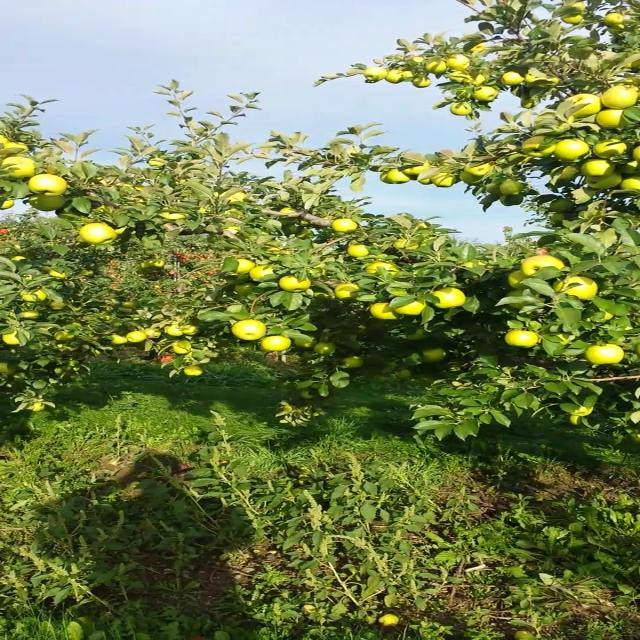apple: (598, 85, 638, 108), (554, 276, 594, 299), (551, 138, 590, 160), (79, 223, 117, 245), (565, 93, 599, 117), (522, 255, 561, 275), (584, 345, 621, 365), (28, 175, 64, 195), (231, 320, 267, 340), (2, 157, 34, 179), (508, 289, 540, 311), (522, 136, 557, 156), (580, 159, 614, 177), (28, 194, 64, 211), (432, 288, 464, 307), (592, 140, 625, 158), (584, 172, 620, 188), (278, 275, 310, 292), (504, 331, 538, 347), (595, 110, 624, 128), (371, 303, 397, 321), (259, 335, 289, 350), (395, 300, 425, 314), (335, 284, 360, 300), (402, 160, 430, 174), (366, 262, 398, 274), (250, 264, 274, 280), (162, 205, 188, 219), (446, 55, 468, 71), (558, 168, 580, 184), (220, 190, 246, 203), (472, 86, 496, 100), (419, 348, 442, 362), (549, 199, 575, 211), (292, 336, 318, 348), (425, 60, 447, 74), (501, 71, 523, 85), (502, 180, 524, 194), (332, 220, 357, 232), (403, 328, 428, 340), (364, 67, 385, 81), (387, 170, 408, 184), (465, 162, 489, 174), (509, 271, 527, 287), (457, 170, 479, 183), (236, 260, 256, 274), (0, 330, 20, 344), (346, 245, 369, 257), (620, 176, 639, 190), (141, 259, 163, 271), (22, 290, 44, 302), (236, 282, 254, 296), (53, 330, 74, 342), (500, 193, 522, 204), (7, 141, 27, 153), (394, 239, 418, 249), (0, 361, 17, 375), (559, 15, 581, 25), (451, 104, 471, 115), (604, 14, 622, 26), (435, 173, 453, 185), (554, 333, 572, 345), (109, 333, 127, 345), (171, 342, 189, 354), (313, 344, 334, 354), (450, 73, 470, 83), (126, 331, 144, 342), (342, 356, 360, 367), (386, 69, 401, 82), (624, 160, 639, 173), (183, 366, 202, 376), (572, 404, 591, 414), (460, 261, 486, 268), (544, 76, 562, 86), (411, 77, 429, 87), (148, 158, 166, 168), (468, 42, 484, 53), (524, 75, 546, 83), (294, 228, 310, 239), (622, 59, 639, 69), (180, 325, 197, 335), (470, 74, 484, 86), (29, 402, 47, 411), (225, 226, 241, 236), (0, 196, 12, 209), (114, 224, 127, 236), (521, 98, 536, 108), (143, 328, 158, 338), (10, 255, 28, 263), (601, 310, 613, 322), (49, 270, 66, 278), (168, 325, 181, 335), (50, 302, 66, 310), (570, 1, 584, 10), (411, 56, 426, 64), (400, 72, 412, 82), (23, 311, 38, 319), (0, 135, 8, 149), (417, 178, 435, 184), (632, 147, 639, 161), (280, 207, 296, 213), (298, 218, 310, 226), (570, 414, 578, 424), (382, 172, 388, 182)
